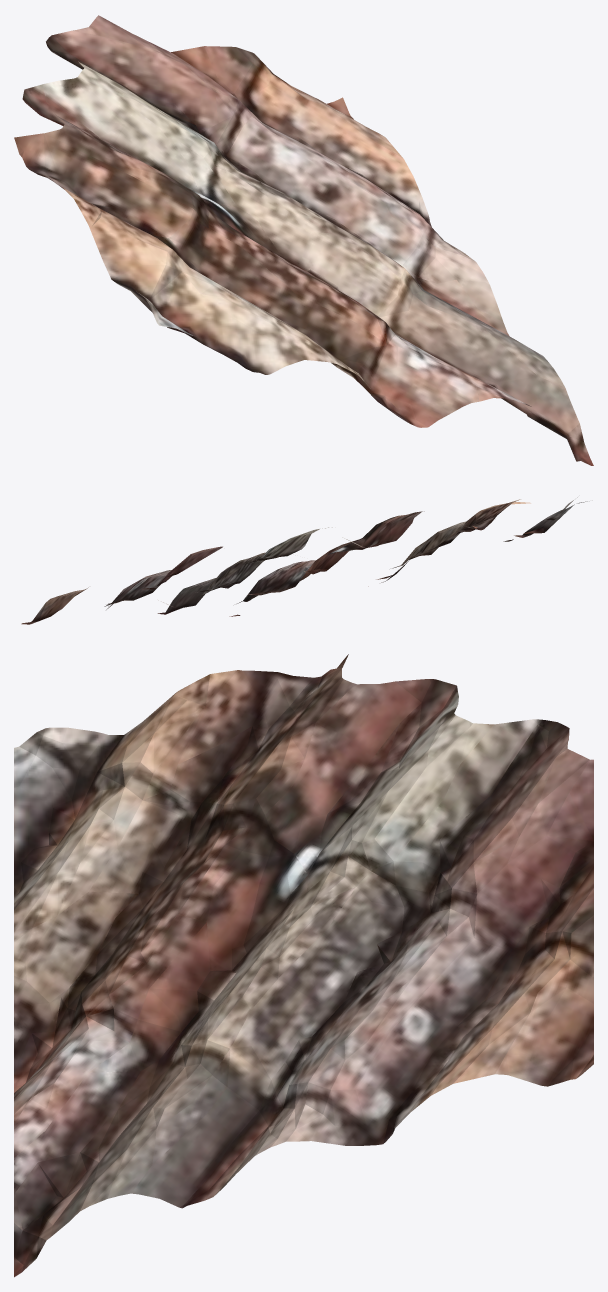
The picture shows the model from 3 angles, top to bottom: view 1: azimuth 30°, elevation 25°; view 2: azimuth 150°, elevation 25°; view 3: azimuth 270°, elevation 25°; orthographic projection. The views are drawn at different scales.
Size of the model in its own units: 0.8374 by 0.6038 by 0.8374.
Materials: 3 (3 with a texture image).
